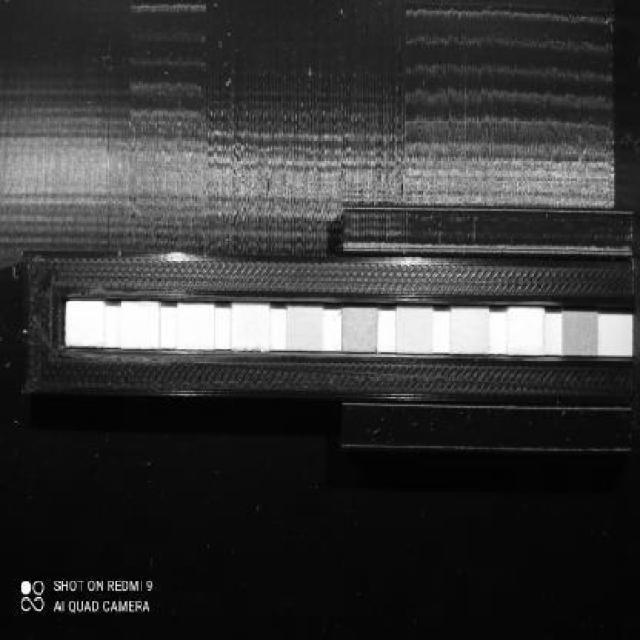Bilirubin: (509, 307, 544, 353)
Blood: (342, 308, 378, 352)
Glucose: (563, 314, 599, 355)
Ketone: (450, 309, 489, 354)
Leukocytes: (67, 302, 102, 346)
Nitrite: (121, 302, 159, 348)
Protein: (233, 304, 269, 349)
SpGravity: (397, 308, 433, 352)
Urobilinogen: (179, 304, 214, 348)
background: (0, 0, 640, 640)
pH: (288, 307, 322, 350)
strip: (65, 306, 633, 357)
